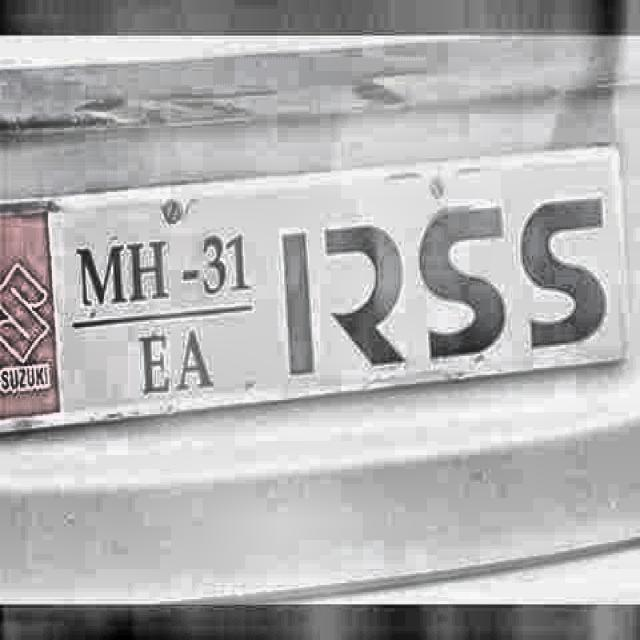license_plate: (3, 182, 629, 405)
